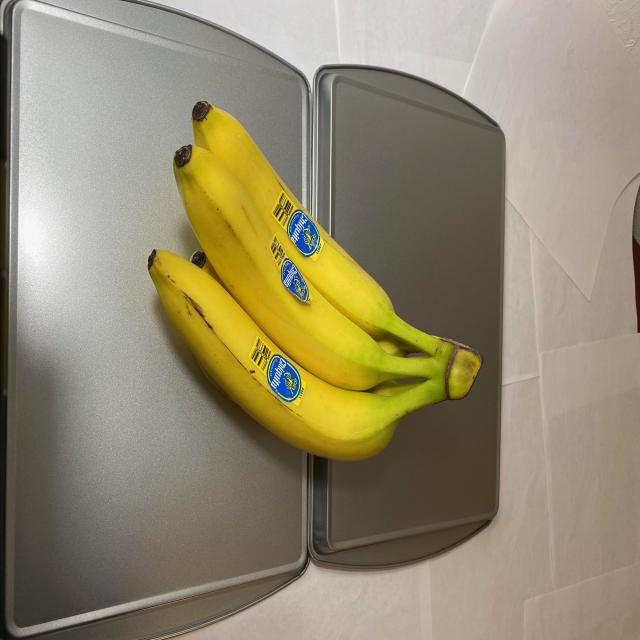banana: (143, 96, 483, 467)
